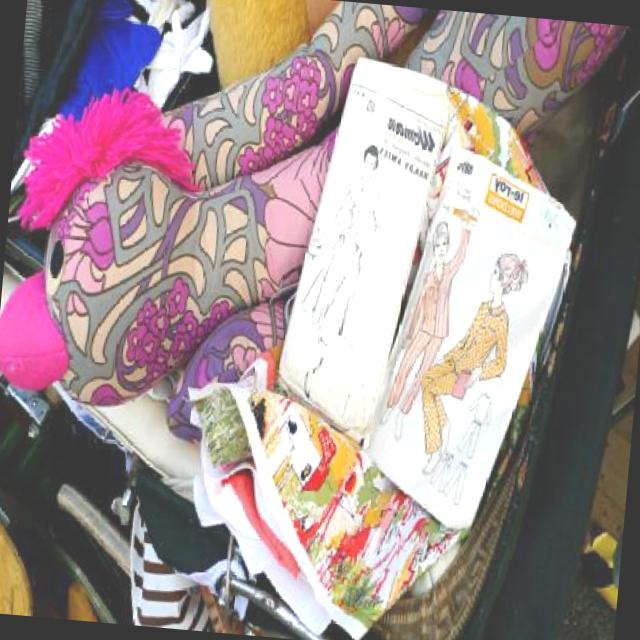Person: (412, 248, 530, 480), (297, 137, 395, 404), (378, 198, 473, 448)
